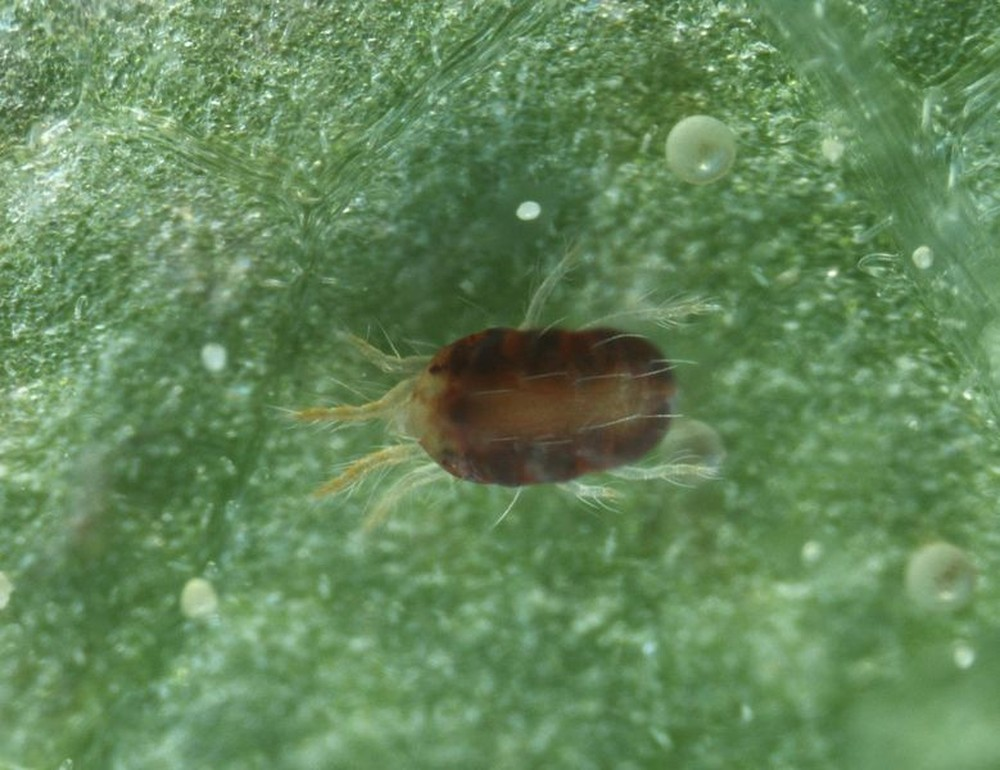Aracnido Rojo: (282, 260, 757, 545)
